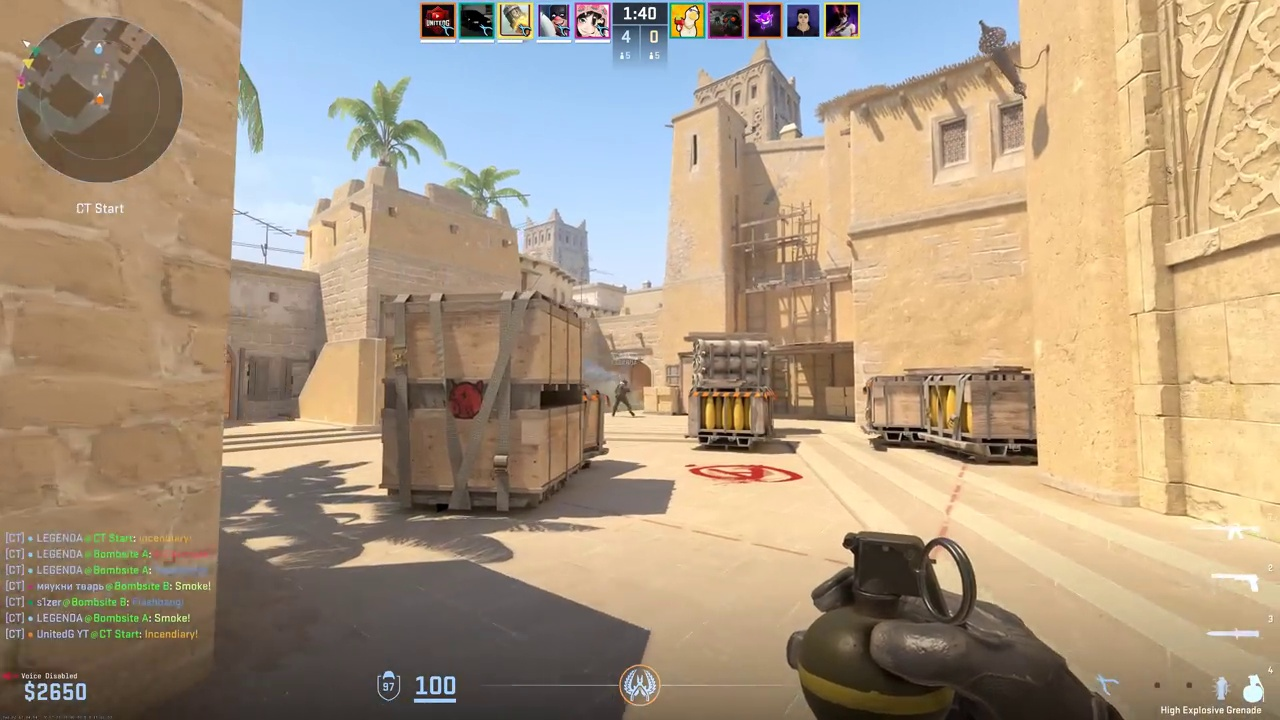CT: (614, 379, 633, 416)
